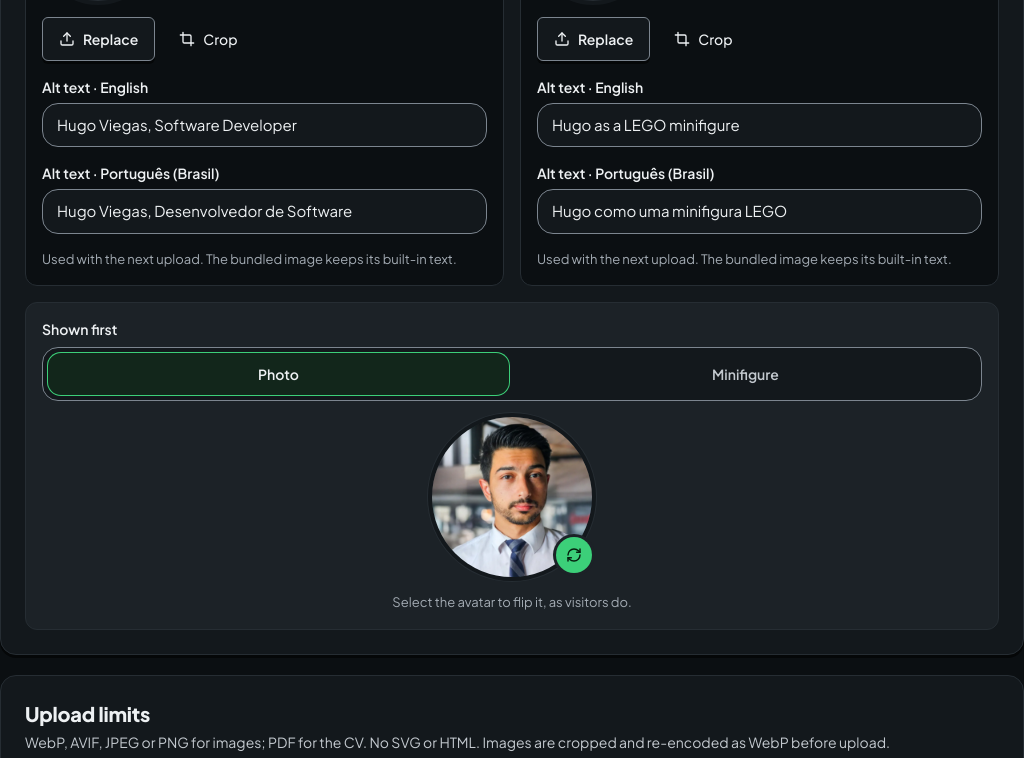
FilesPanel › saves which face is shown first
(page scrolled)
expect the radio button labelled "Photo" is checked: met, box [47,352,510,396]
Click the radio button labelled "Minifigure" at (746, 374), box [712,365,779,383]
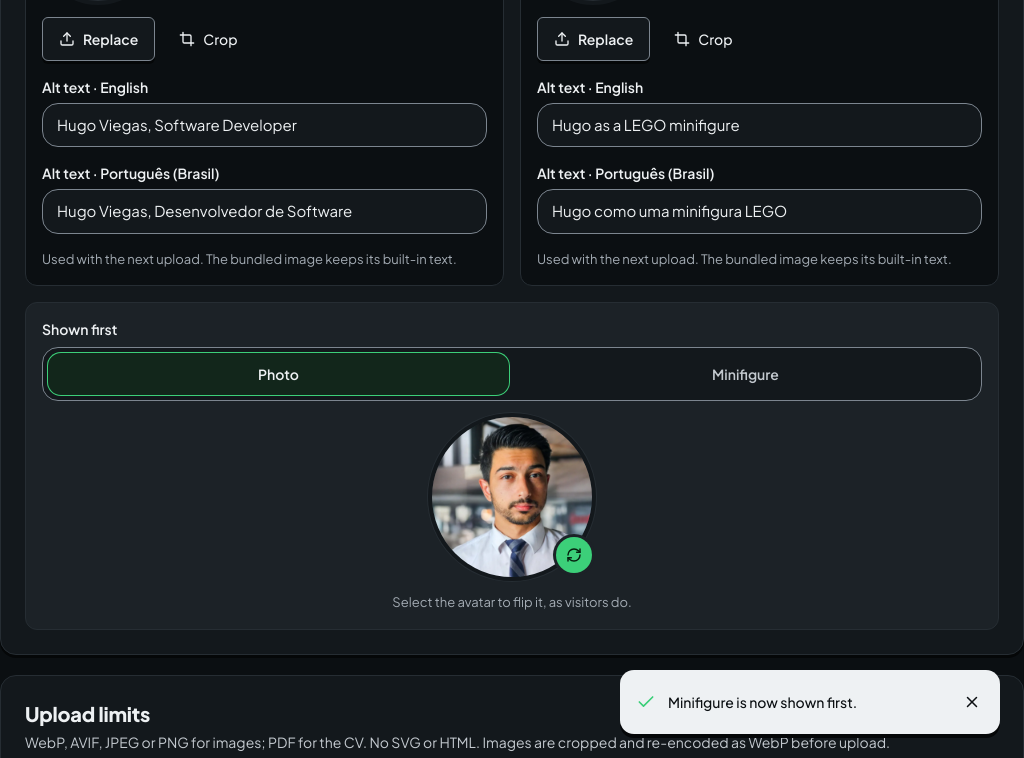
expect the text "Minifigure is now shown first." is shown: met, box [668,693,857,711]
